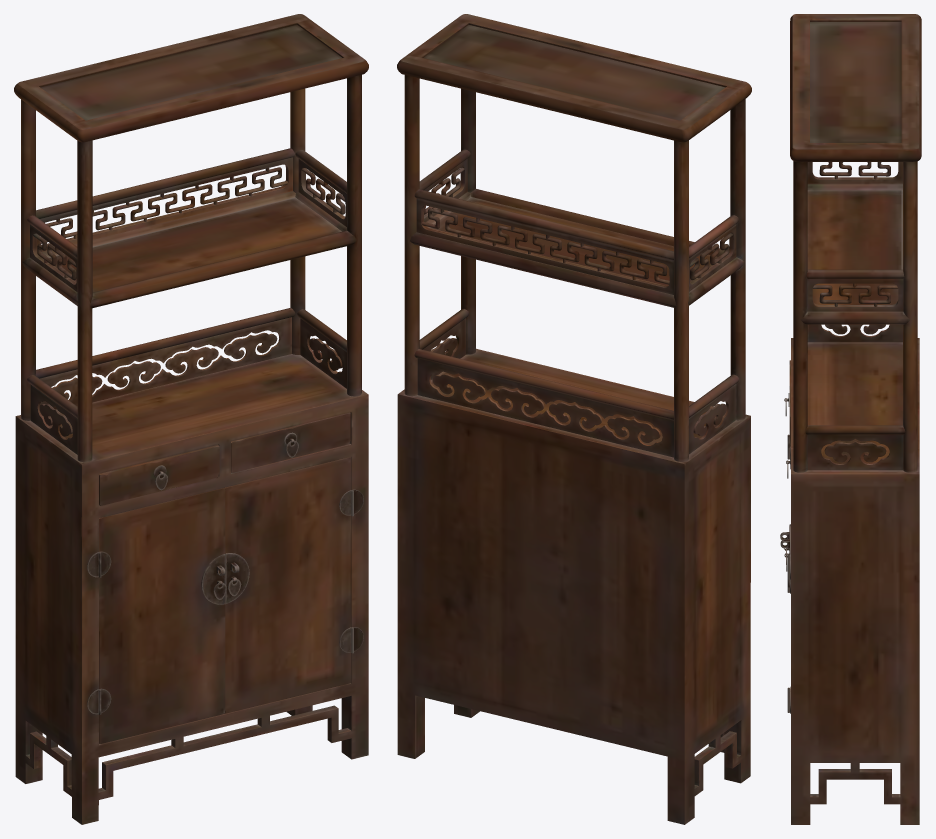
The model's file is chinese_cabinet.glb.
3 views of the same model, side by side, from view 1: azimuth 30°, elevation 25°; view 2: azimuth 150°, elevation 25°; view 3: azimuth 270°, elevation 25° (orthographic). The views are drawn at different scales.
Visible parts, largest first — view 1: chinese_cabinet; view 2: chinese_cabinet; view 3: chinese_cabinet.
Part boxes in pixels (x1,y1,x2,y2): chinese_cabinet: [14, 14, 368, 824]; chinese_cabinet: [397, 14, 751, 824]; chinese_cabinet: [780, 14, 921, 824].
Bounding box in the file's own units: 1.26 × 2.87 × 0.5452.
1 material, 1 textured.
